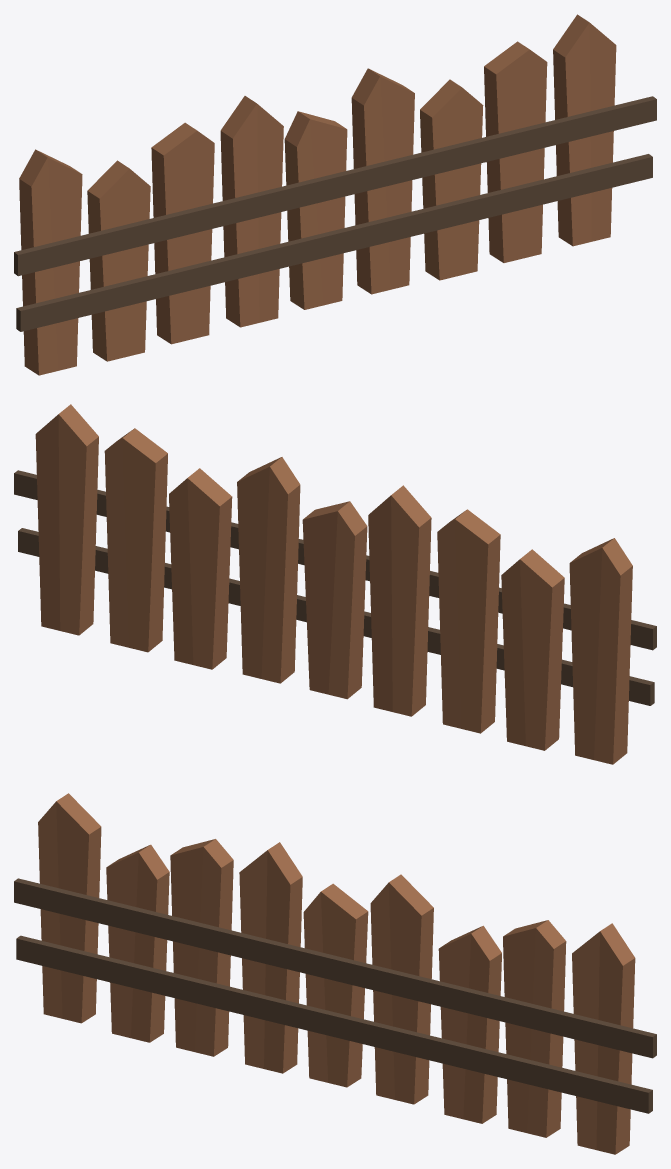
Rendered from cit.fbx.
3 views of the same model, one above another, from view 1: azimuth 30°, elevation 25°; view 2: azimuth 150°, elevation 25°; view 3: azimuth 330°, elevation 25° (orthographic).
Parts seen in each view (by area): view 1: cit; view 2: cit; view 3: cit.
Part boxes in pixels (x1=…): cit: x1=14, y1=14, x2=656, y2=375; cit: x1=14, y1=404, x2=656, y2=764; cit: x1=14, y1=793, x2=656, y2=1154.
Bounding box in the file's own units: 673 × 222 × 36.08.
